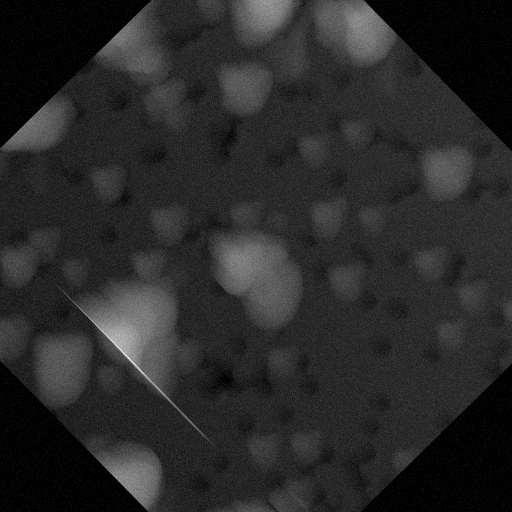Hole: (179, 322, 273, 416), (344, 376, 412, 443), (194, 112, 257, 175), (326, 440, 384, 498), (252, 128, 305, 181), (464, 331, 511, 385), (97, 77, 146, 127), (45, 142, 94, 191), (359, 320, 405, 366), (129, 131, 175, 176), (395, 52, 440, 97), (379, 164, 423, 207), (463, 124, 505, 166), (289, 68, 331, 110), (290, 361, 331, 403), (180, 464, 220, 503), (377, 287, 416, 326), (204, 445, 241, 483), (480, 165, 511, 209), (380, 123, 417, 159), (386, 237, 420, 271), (229, 407, 262, 439), (196, 202, 228, 235), (325, 65, 357, 97), (273, 77, 305, 109), (423, 399, 455, 431), (269, 397, 301, 428), (292, 223, 323, 254), (416, 339, 446, 369), (91, 220, 120, 249), (355, 285, 384, 314), (317, 487, 351, 511), (328, 159, 354, 185), (323, 106, 348, 131), (116, 186, 141, 211), (201, 278, 225, 302), (509, 236, 511, 276)
Particle: (194, 209, 323, 339), (9, 312, 119, 423), (81, 409, 187, 511), (395, 119, 492, 216), (291, 0, 401, 83), (0, 90, 86, 178), (200, 0, 318, 63), (198, 40, 284, 126), (131, 65, 211, 145), (310, 237, 385, 312), (292, 174, 365, 247), (72, 143, 144, 214), (135, 186, 204, 255), (177, 476, 310, 511), (17, 204, 82, 268), (441, 263, 505, 326), (274, 412, 336, 475), (401, 227, 463, 288), (422, 303, 482, 363), (0, 228, 51, 296), (237, 418, 294, 475), (346, 186, 403, 243), (257, 335, 311, 389), (220, 178, 274, 232), (123, 233, 176, 287), (291, 120, 344, 173), (85, 352, 137, 403), (0, 297, 40, 363), (53, 245, 104, 295), (332, 104, 382, 154), (181, 0, 243, 30), (378, 432, 421, 475), (259, 196, 300, 237), (0, 217, 19, 297), (487, 278, 511, 340)
Smear: (58, 240, 223, 405), (262, 464, 326, 511)
